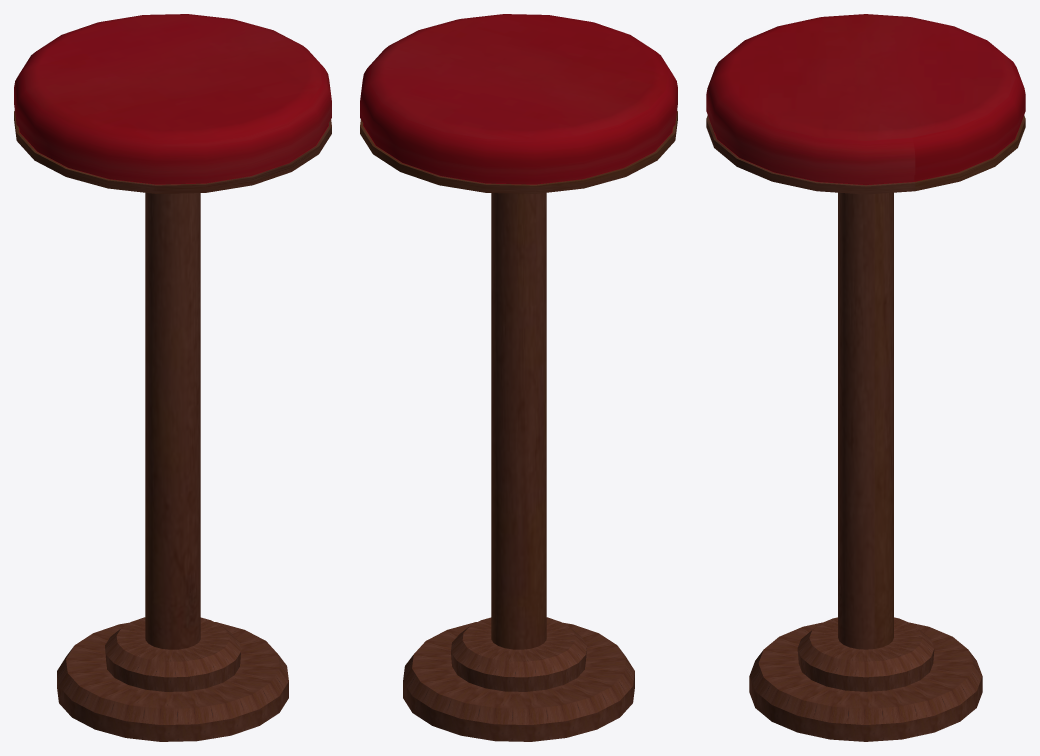
File: SillaBar.fbx
The picture shows the model from 3 angles, left to right: view 1: azimuth 30°, elevation 25°; view 2: azimuth 150°, elevation 25°; view 3: azimuth 270°, elevation 25°; orthographic projection.
Parts seen in each view (by area): view 1: Silla; view 2: Silla; view 3: Silla.
Boxes of the visible parts, x1,y1,x2,y2 form: Silla: [14, 14, 331, 741]; Silla: [360, 14, 677, 741]; Silla: [706, 14, 1025, 741].
Size of the model in its own units: 99 by 212 by 99.
